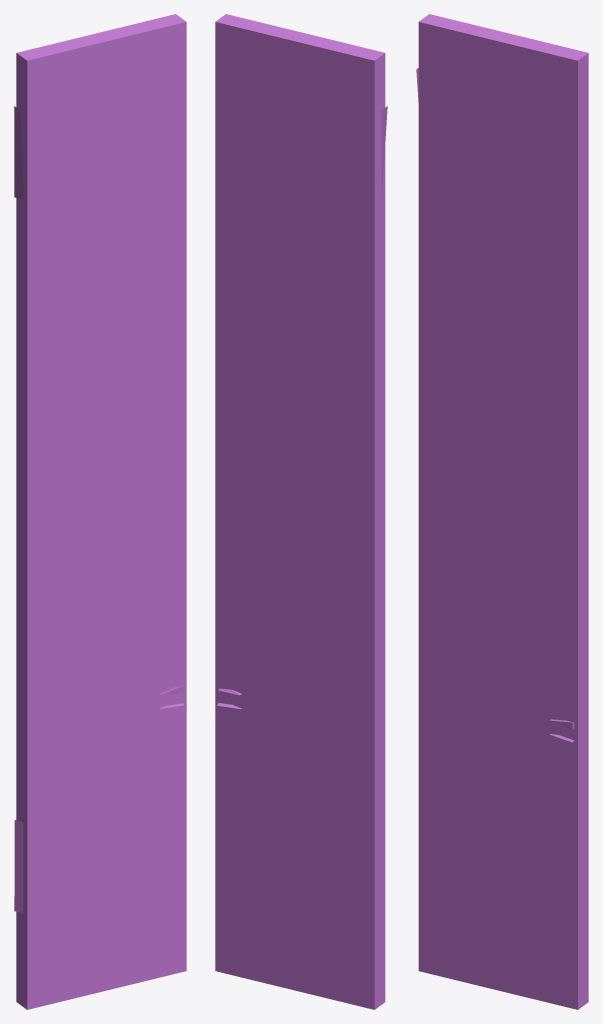
Rendered from Villa2_Door_B1.fbx.
3 views of the same model, side by side, from view 1: azimuth 30°, elevation 25°; view 2: azimuth 150°, elevation 25°; view 3: azimuth 330°, elevation 25° (orthographic).
Visible parts, largest first — view 1: Villa2_Door_B; view 2: Villa2_Door_B; view 3: Villa2_Door_B.
Boxes of the visible parts, <box> form: Villa2_Door_B: <box>14,14,186,1009</box>; Villa2_Door_B: <box>215,14,387,1009</box>; Villa2_Door_B: <box>416,14,588,1009</box>.
Size of the model in its own units: 87.86 by 486 by 13.73.
